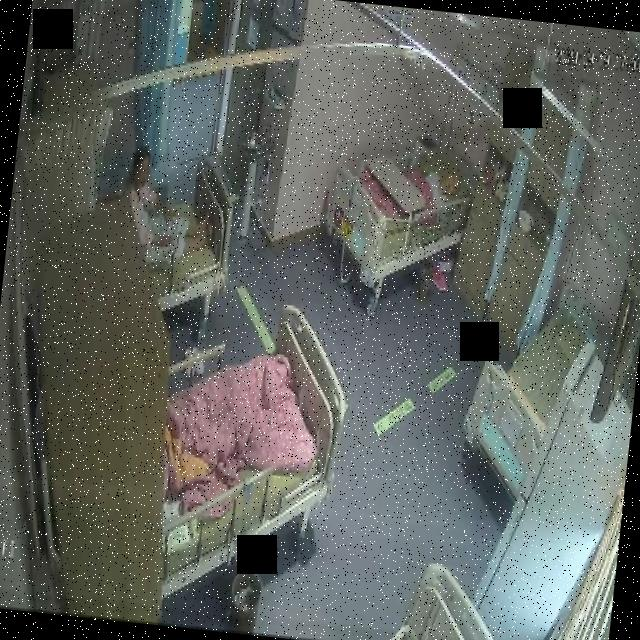bed: (148, 299, 350, 582), (321, 119, 478, 284), (470, 277, 594, 467), (130, 148, 241, 314)
patient: (120, 142, 218, 268), (414, 164, 462, 213)
sit: (120, 143, 222, 267)
